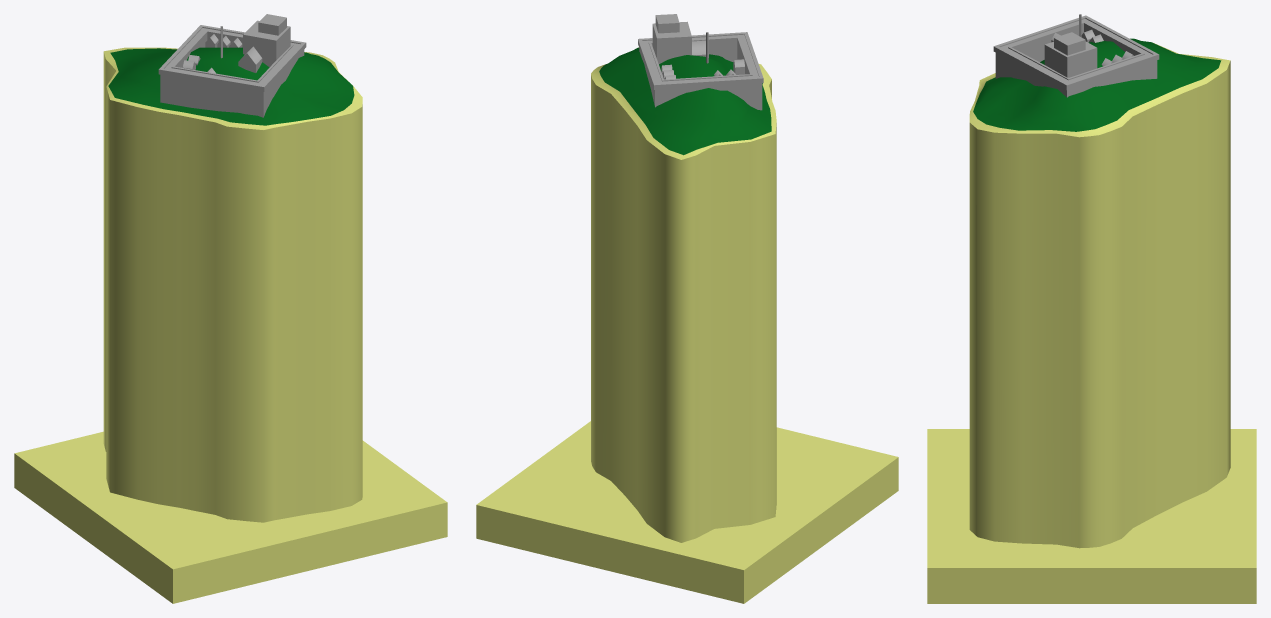
File: Quest_Little_Island_03.fbx
The picture shows the model from 3 angles, left to right: view 1: azimuth 30°, elevation 25°; view 2: azimuth 150°, elevation 25°; view 3: azimuth 270°, elevation 25°; orthographic projection. The views are drawn at different scales.
Parts seen in each view (by area): view 1: Quest_Little_Island_03, Little_Quest_03; view 2: Quest_Little_Island_03, Little_Quest_03; view 3: Quest_Little_Island_03, Little_Quest_03.
Part boxes in pixels (x1=…): Quest_Little_Island_03: x1=14, y1=47, x2=447, y2=603; Little_Quest_03: x1=158, y1=14, x2=306, y2=117; Quest_Little_Island_03: x1=476, y1=47, x2=898, y2=603; Little_Quest_03: x1=638, y1=14, x2=763, y2=110; Quest_Little_Island_03: x1=927, y1=38, x2=1256, y2=603; Little_Quest_03: x1=993, y1=14, x2=1159, y2=97.
Bounding box in the file's own units: 34.03 × 58.48 × 34.03.
